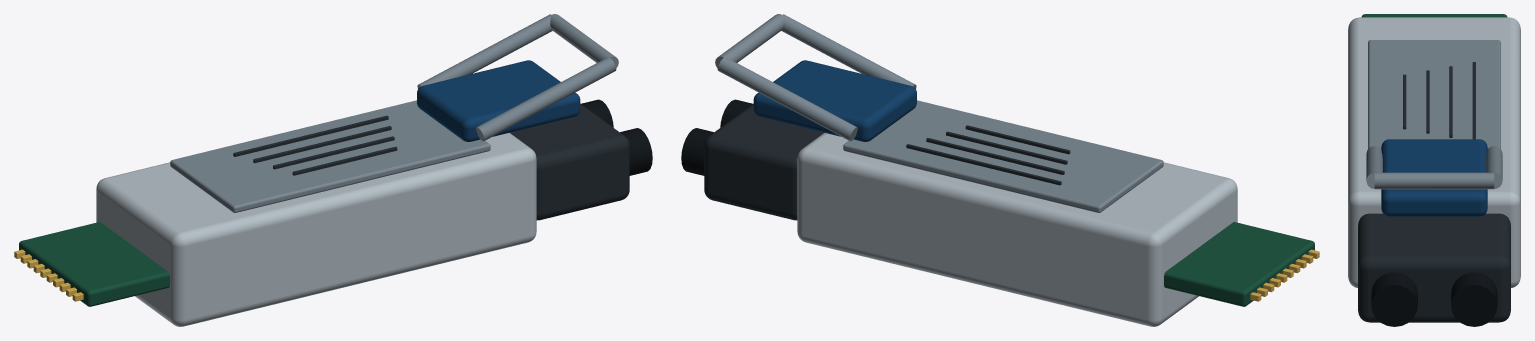
Rendered from sfp-module.glb.
3 renders of one model, left to right at view 1: azimuth 30°, elevation 25°; view 2: azimuth 150°, elevation 25°; view 3: azimuth 270°, elevation 25°, orthographic. The views are drawn at different scales.
Parts seen in each view (by area): view 1: Metal SFP enclosure, Laser-etched specification plate, Duplex LC optical receptacle, Premium optical SFP transceiver, Edge connector PCB, Extraction latch, LC optical port; view 2: Metal SFP enclosure, Laser-etched specification plate, Duplex LC optical receptacle, Premium optical SFP transceiver, Edge connector PCB, Extraction latch, LC optical port; view 3: Metal SFP enclosure, Laser-etched specification plate, Duplex LC optical receptacle, Extraction latch, Premium optical SFP transceiver, LC optical port (×2), Edge connector PCB.
Part boxes in pixels (x1,y1,x2,y2): Metal SFP enclosure: (96, 133, 536, 326); Laser-etched specification plate: (170, 100, 490, 212); Duplex LC optical receptacle: (510, 104, 629, 220); Premium optical SFP transceiver: (233, 14, 618, 175); Edge connector PCB: (19, 222, 169, 306); Extraction latch: (417, 60, 580, 141); LC optical port: (620, 128, 652, 175); Metal SFP enclosure: (797, 133, 1237, 326); Laser-etched specification plate: (843, 100, 1163, 212); Duplex LC optical receptacle: (704, 104, 823, 220); Premium optical SFP transceiver: (715, 14, 1070, 185); Edge connector PCB: (1164, 222, 1314, 306); Extraction latch: (753, 60, 916, 141); LC optical port: (681, 128, 713, 175); Metal SFP enclosure: (1348, 17, 1520, 287); Laser-etched specification plate: (1368, 40, 1500, 148); Duplex LC optical receptacle: (1358, 213, 1510, 322); Extraction latch: (1381, 139, 1487, 216); Premium optical SFP transceiver: (1366, 62, 1502, 189); LC optical port (×2): (1371, 272, 1497, 326); Edge connector PCB: (1361, 14, 1507, 17).
Size of the model in its own units: 2.06 by 0.535 by 0.52.
